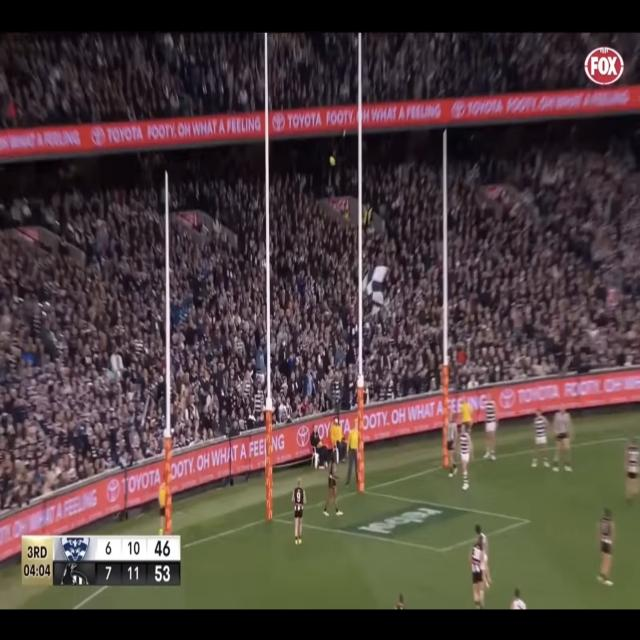crowd: (0, 143, 264, 519), (446, 115, 639, 387), (269, 131, 359, 421), (0, 29, 263, 128), (362, 125, 444, 408), (358, 31, 613, 97), (270, 32, 359, 109)
